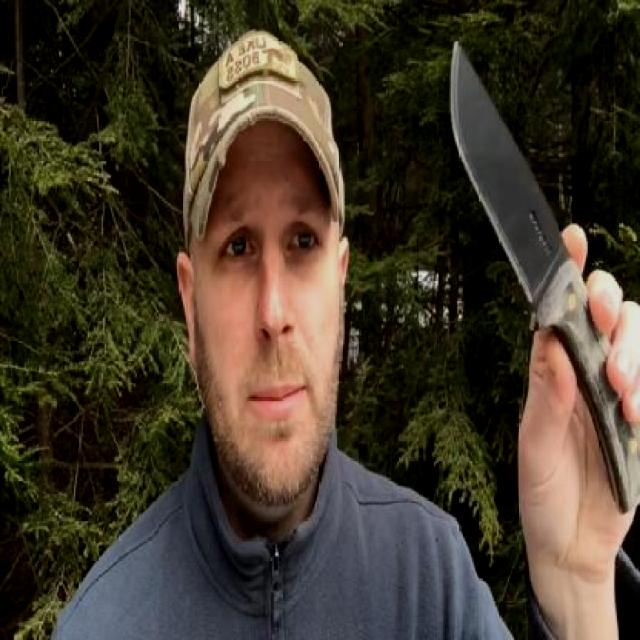knife: (434, 45, 640, 520)
